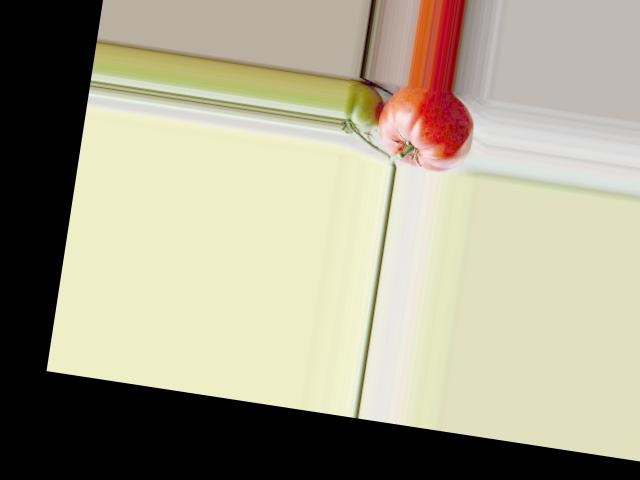tomato: (373, 80, 480, 176)
